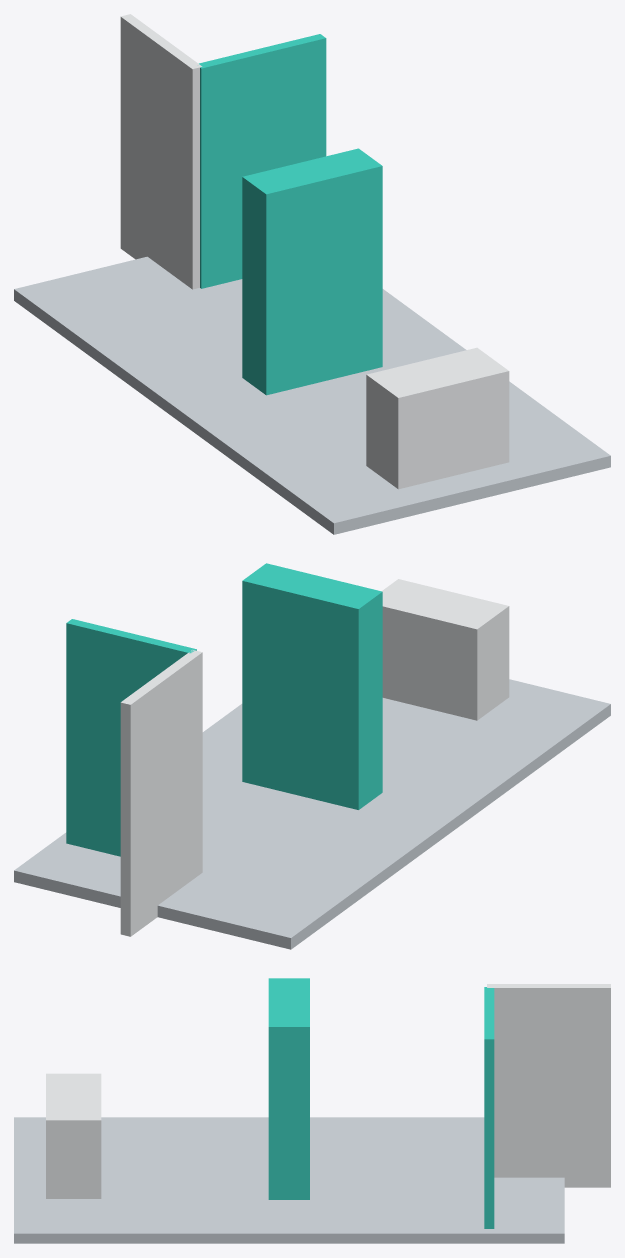
3 renders of one model, top to bottom at view 1: azimuth 30°, elevation 25°; view 2: azimuth 150°, elevation 25°; view 3: azimuth 270°, elevation 25°, orthographic. The views are drawn at different scales.
Visible parts, largest first — view 1: Exhibition Booth Concept; view 2: Exhibition Booth Concept; view 3: Exhibition Booth Concept.
Part boxes in pixels (x1,y1,x2,y2): Exhibition Booth Concept: (14, 14, 610, 534); Exhibition Booth Concept: (14, 563, 610, 949); Exhibition Booth Concept: (14, 978, 610, 1243).
Bounding box in the file's own units: 3 × 2.4 × 6.51.
